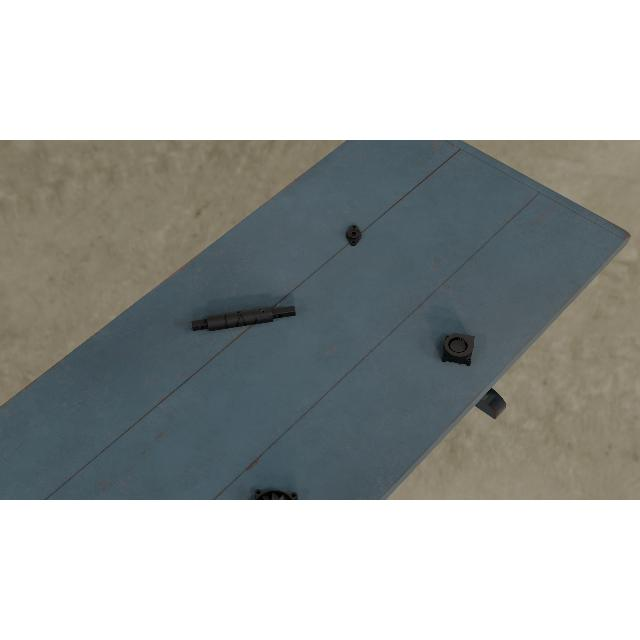Pieza1: (190, 300, 296, 336)
Pieza2: (346, 224, 362, 246)
Pieza3: (441, 332, 475, 368)
Pieza4: (249, 488, 299, 500)
